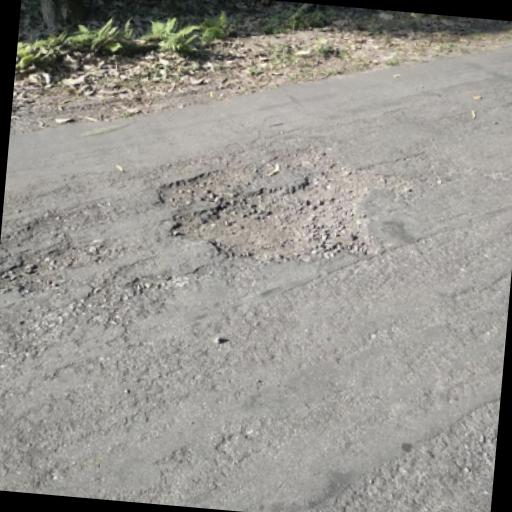pothole: (148, 130, 423, 278)
